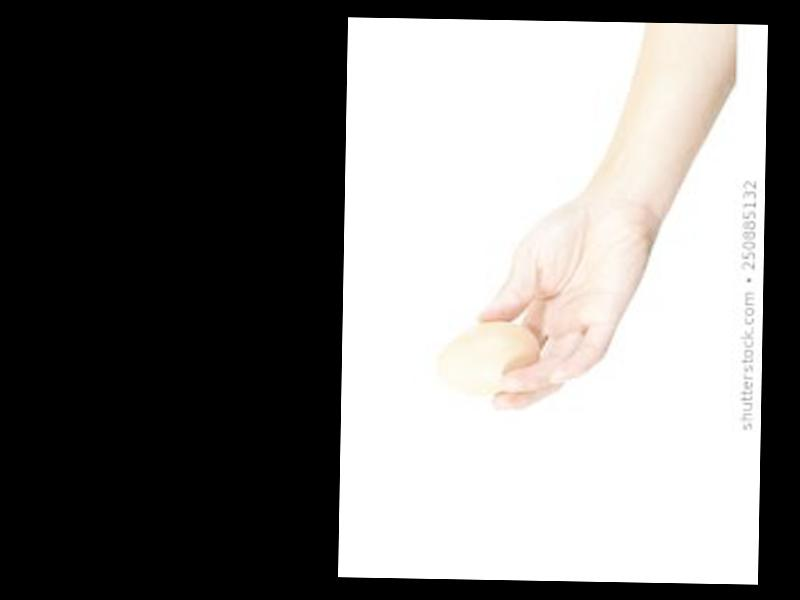Eggs: (434, 320, 544, 396)
